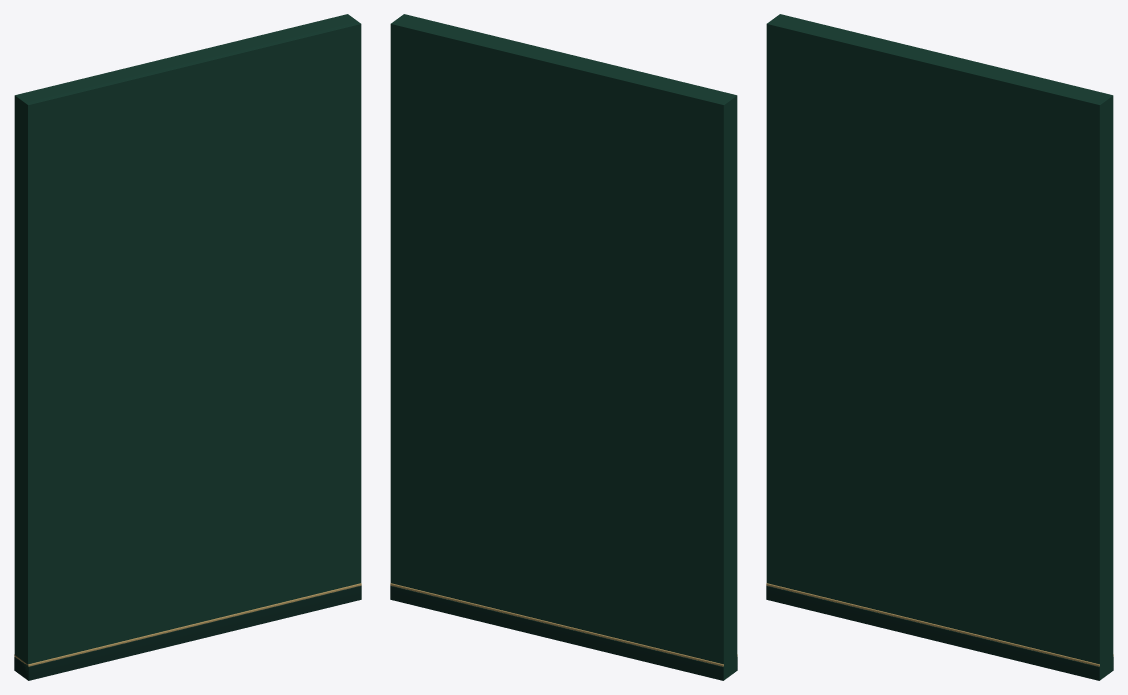
Rendered from GJH_ARC_001.glb.
3 renders of one model, left to right at view 1: azimuth 30°, elevation 25°; view 2: azimuth 150°, elevation 25°; view 3: azimuth 330°, elevation 25°, orthographic.
Visible parts, largest first — view 1: GJH-ARC-001_visual; view 2: GJH-ARC-001_visual; view 3: GJH-ARC-001_visual.
Part boxes in pixels (box(x1,y1,x2,y2)): GJH-ARC-001_visual: box(14, 14, 361, 680); GJH-ARC-001_visual: box(390, 14, 737, 680); GJH-ARC-001_visual: box(766, 14, 1113, 680).
Size of the model in its own units: 4 by 6.6 by 0.3.
